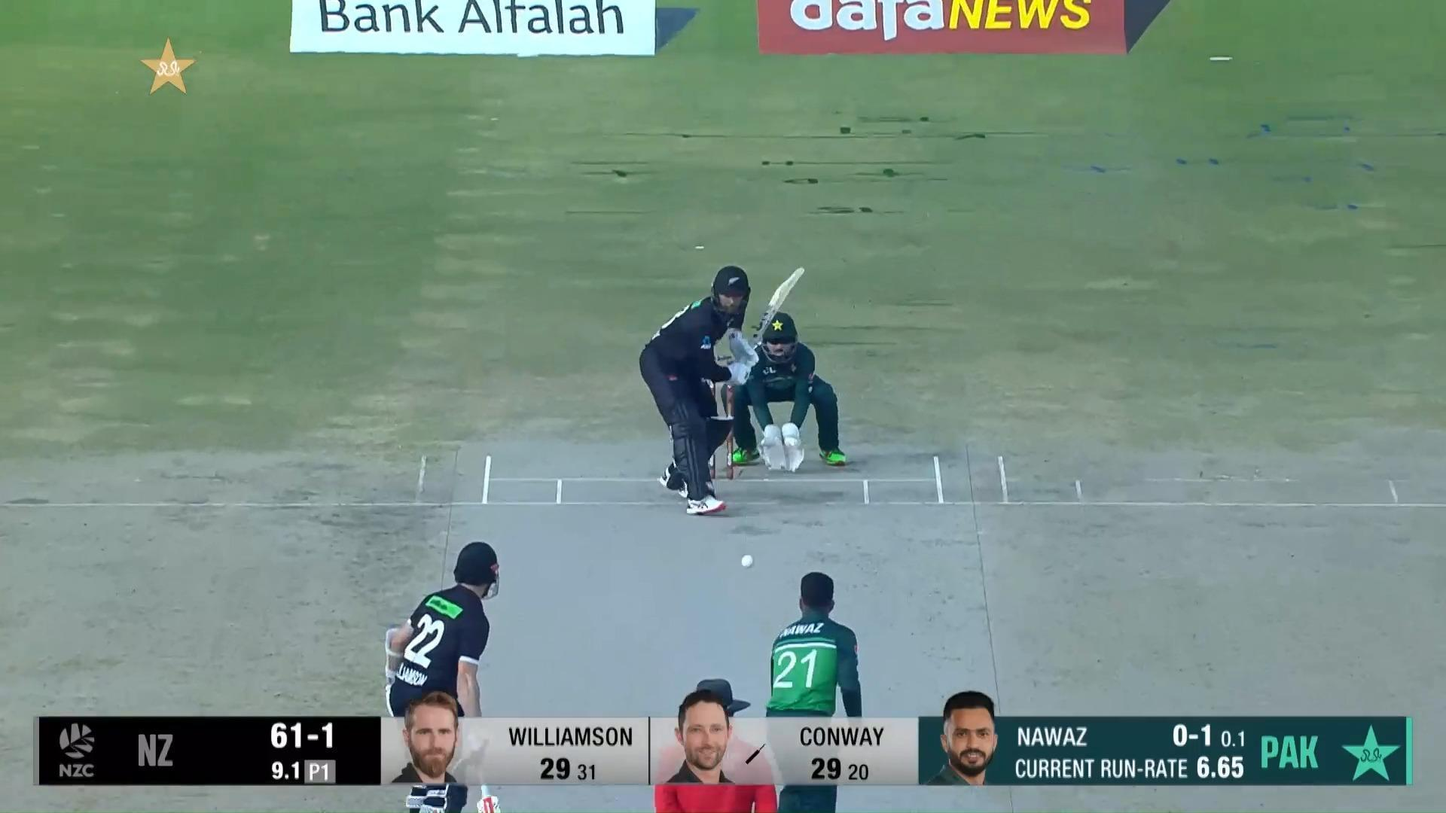BM 1: (639, 266, 805, 516)
BO: (762, 572, 866, 813)
